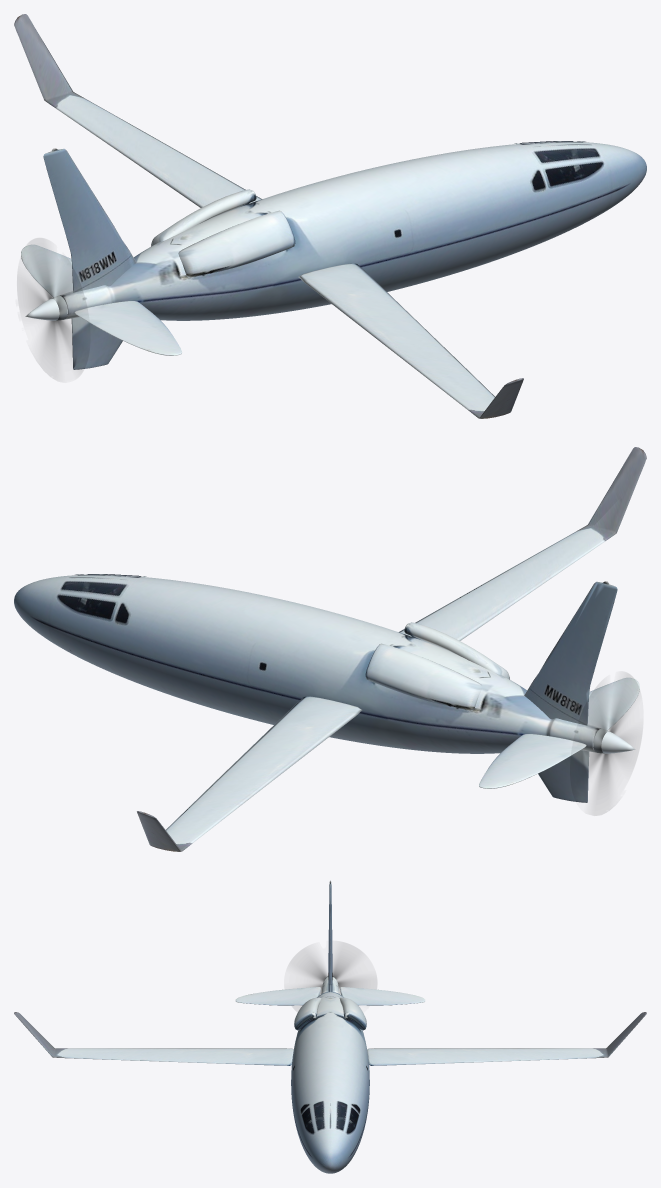
3 renders of one model, top to bottom at view 1: azimuth 30°, elevation 25°; view 2: azimuth 150°, elevation 25°; view 3: azimuth 270°, elevation 25°, orthographic. The views are drawn at different scales.
Visible parts, largest first — view 1: bodyObj_Material.001_0, Sphere.001_celera-500l_0, Circle, Sphere.006_glass_0, Sphere.005; view 2: bodyObj_Material.001_0, Sphere.001_celera-500l_0, Circle, Sphere.006_glass_0, Sphere.005; view 3: Sphere.001_celera-500l_0, bodyObj_Material.001_0, Sphere.006_glass_0, Circle.
Part boxes in pixels (bbox=[...]): bodyObj_Material.001_0: bbox=[59, 141, 646, 320]; Sphere.001_celera-500l_0: bbox=[14, 14, 523, 418]; Circle: bbox=[25, 253, 81, 363]; Sphere.006_glass_0: bbox=[514, 141, 604, 191]; Sphere.005: bbox=[25, 295, 67, 320]; bodyObj_Material.001_0: bbox=[14, 574, 600, 753]; Sphere.001_celera-500l_0: bbox=[137, 447, 646, 851]; Circle: bbox=[578, 689, 634, 799]; Sphere.006_glass_0: bbox=[56, 574, 146, 624]; Sphere.005: bbox=[593, 728, 635, 753]; Sphere.001_celera-500l_0: bbox=[14, 880, 646, 1065]; bodyObj_Material.001_0: bbox=[291, 979, 369, 1173]; Sphere.006_glass_0: bbox=[300, 1100, 360, 1134]; Circle: bbox=[299, 951, 367, 994].
Size of the model in its own units: 288 by 102 by 401.
Materials: 4 (4 with a texture image).
